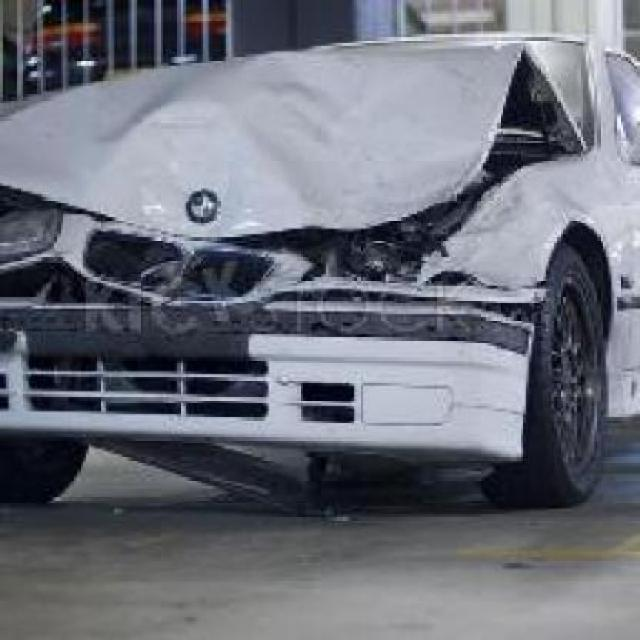damaged-front-bumper: (0, 253, 538, 450)
damaged-hood: (26, 38, 563, 234)
